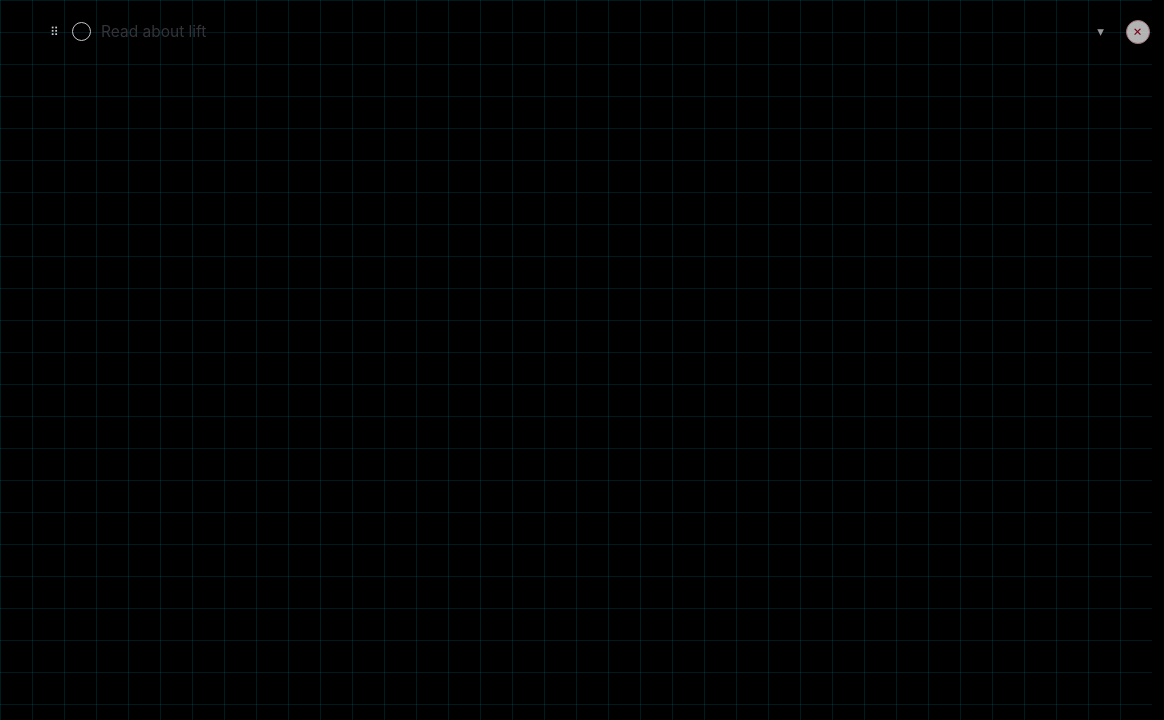
Test: TodoItem note › closes an open note when a drag starts
Click the button "Read about lift" at coordinates (154, 32), box [101, 22, 206, 41]
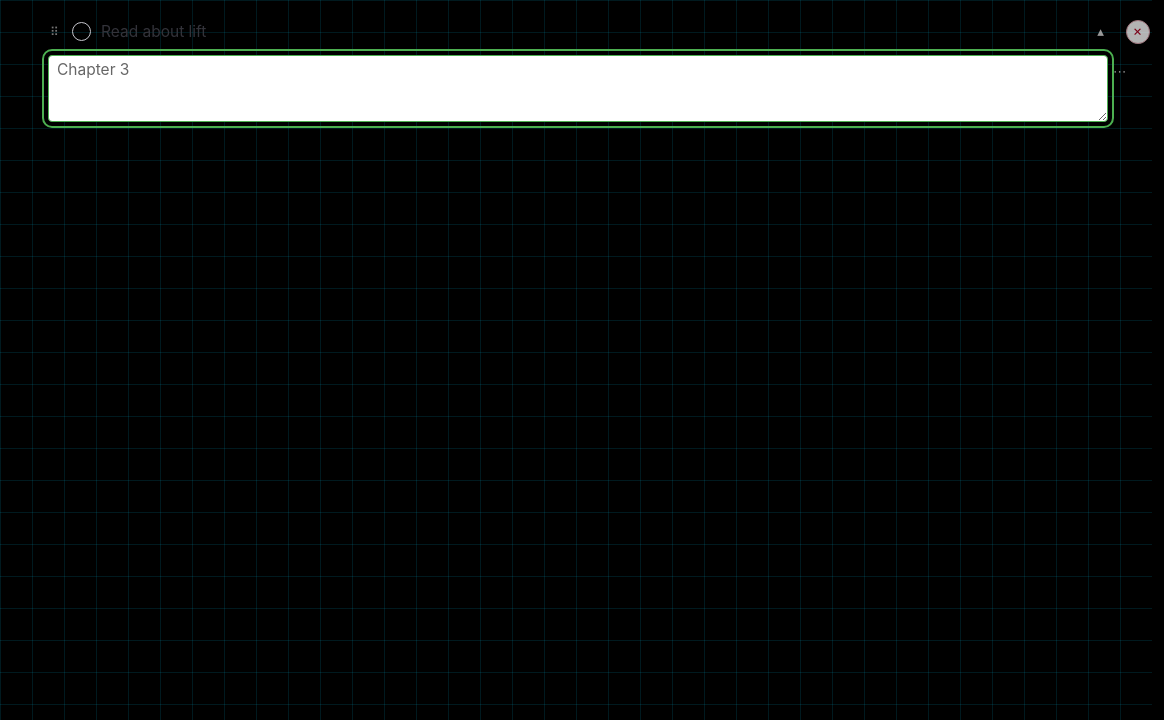
Now the text box named "note for" is shown, box [48, 55, 1108, 122]
